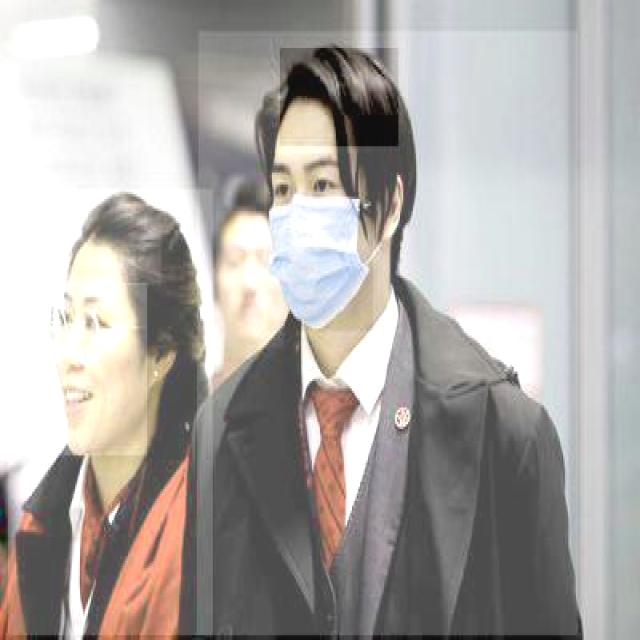face_mask: (267, 153, 373, 331)
face_nomask: (53, 283, 147, 455), (216, 211, 285, 348)
glasses: (46, 298, 103, 364)
head_nohelmet: (278, 48, 398, 149), (68, 194, 162, 285)
person: (197, 31, 578, 638), (6, 190, 213, 638)
